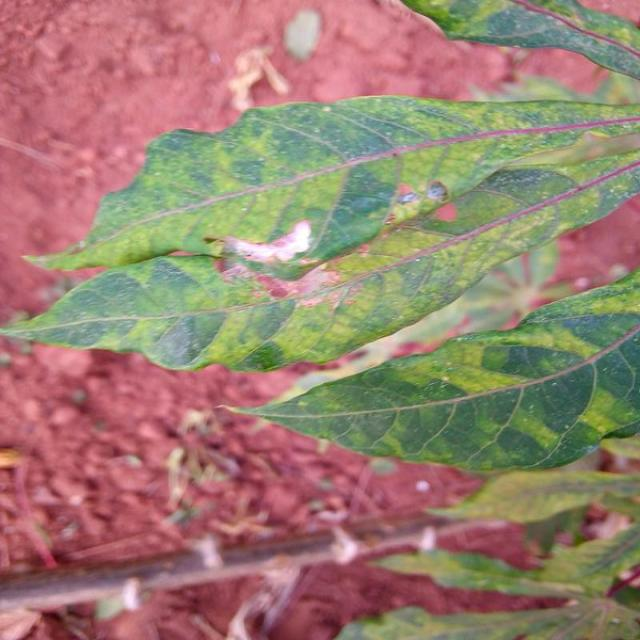cassava leaf: (2, 90, 640, 376), (217, 264, 640, 472)
